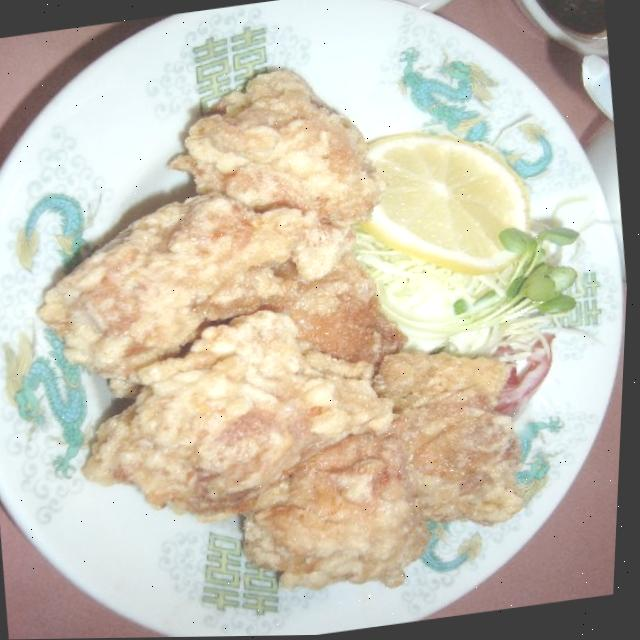鸡肉料理 含炸鸡: (202, 26, 576, 424)
